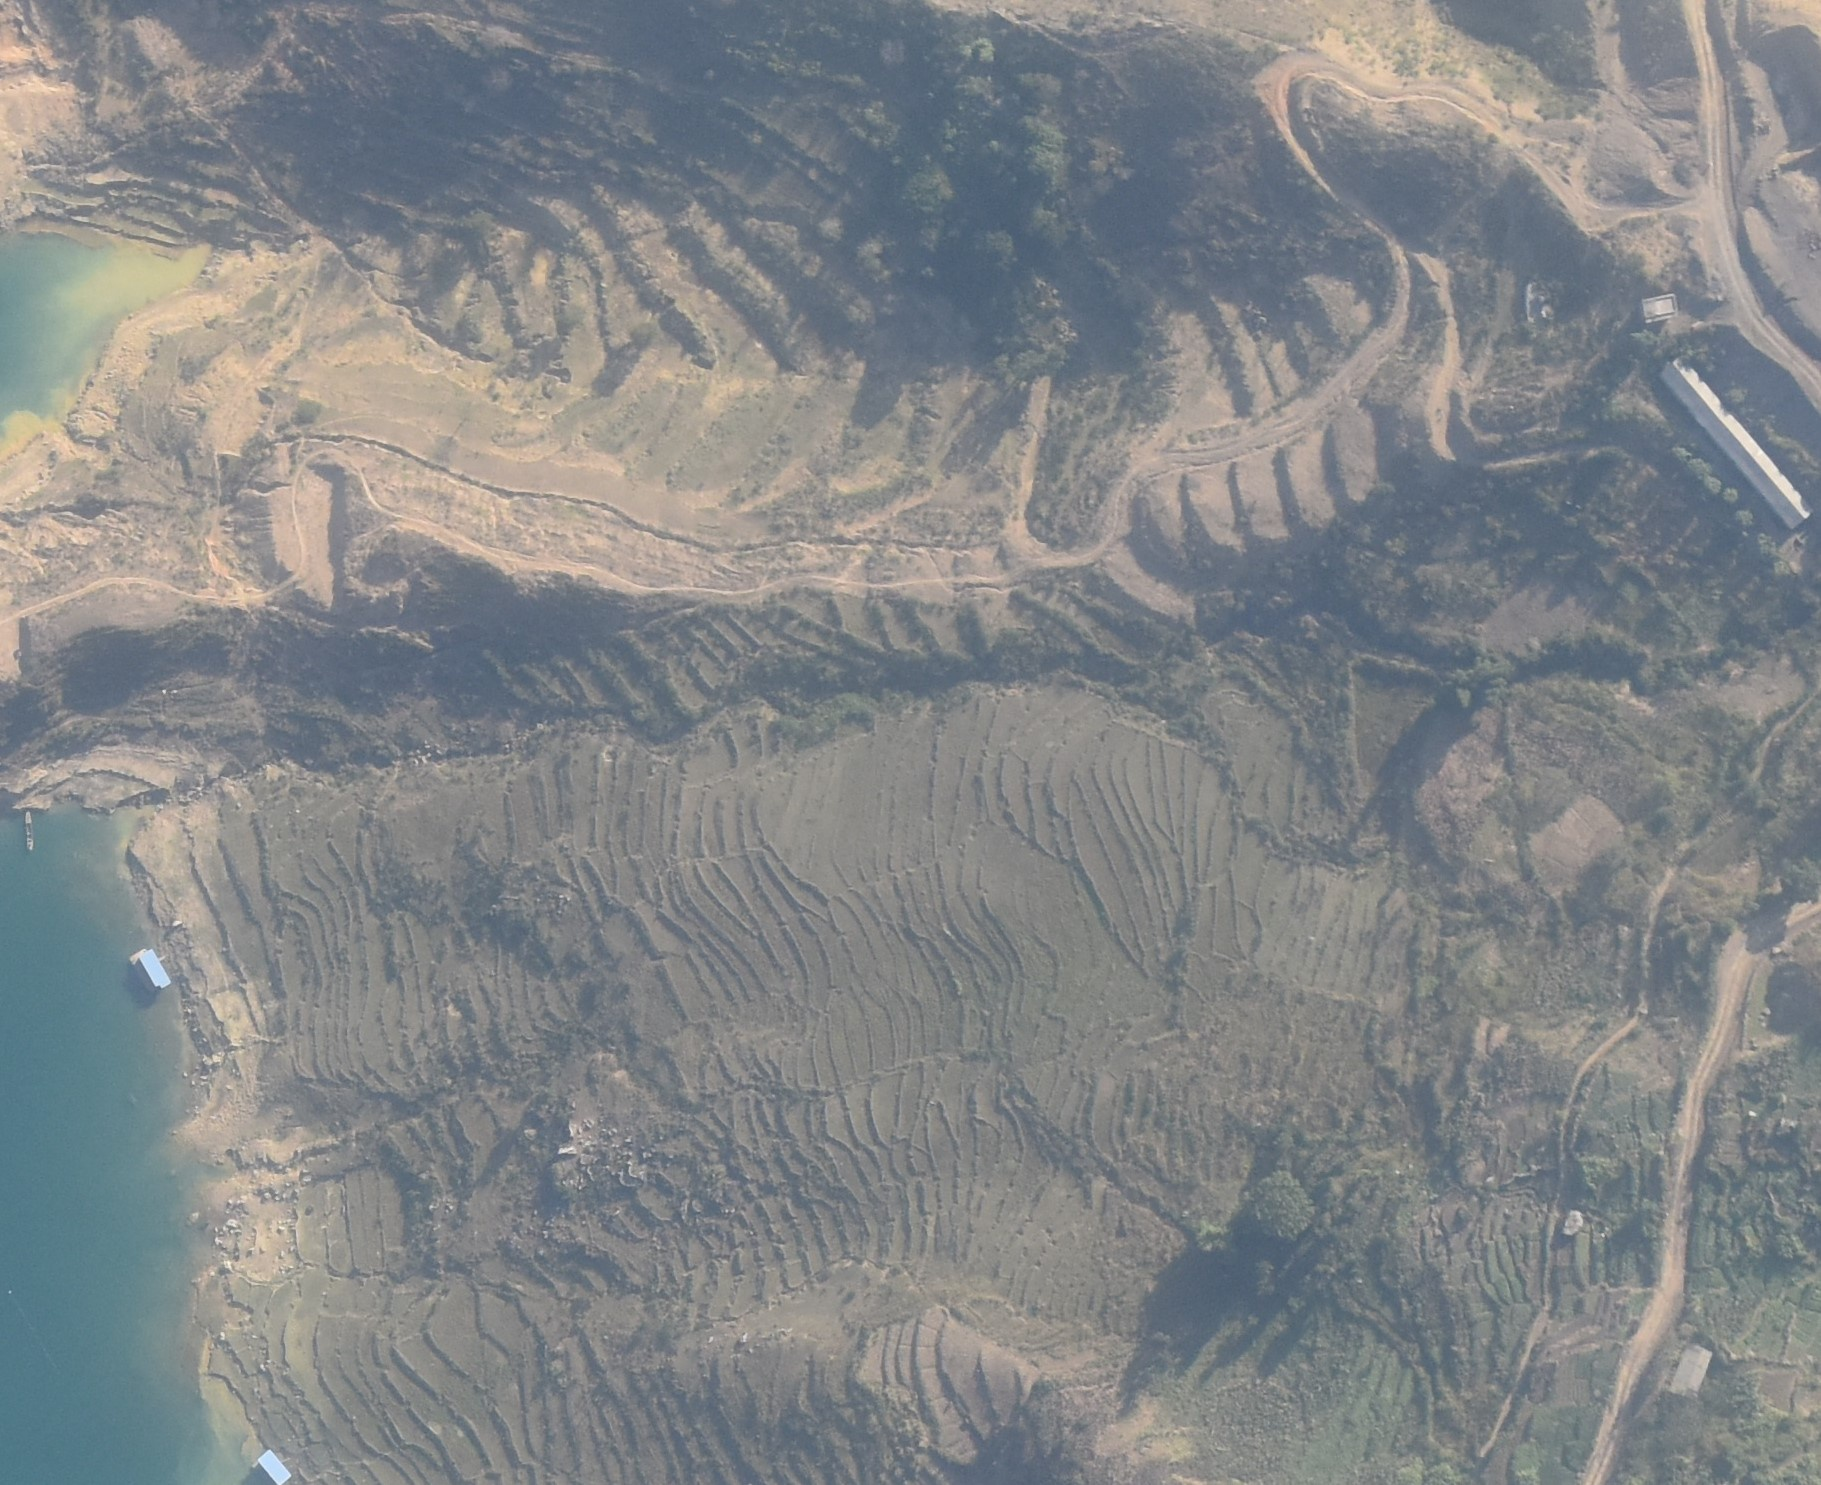building: (1658, 355, 1813, 529), (1670, 1343, 1712, 1397), (1641, 293, 1677, 321)
prefabricated-house: (256, 1446, 292, 1483), (138, 947, 169, 987)
ship: (23, 809, 35, 851)
